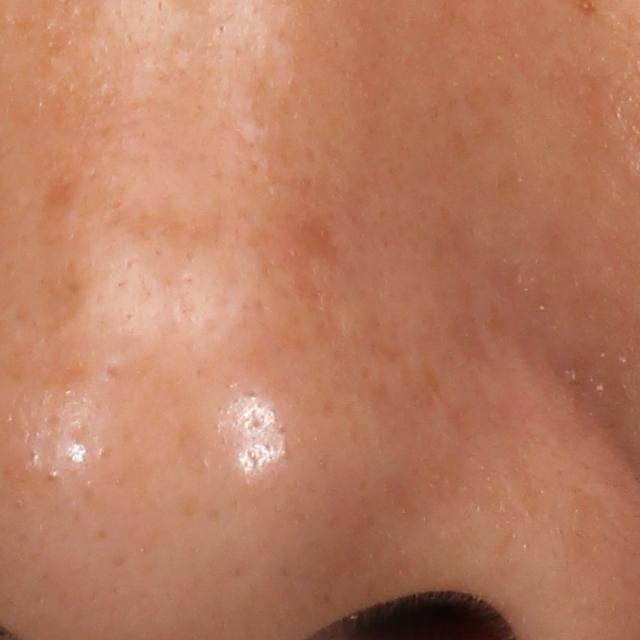melasma: (122, 197, 236, 261), (274, 201, 344, 265), (37, 257, 90, 340), (33, 169, 84, 235)
